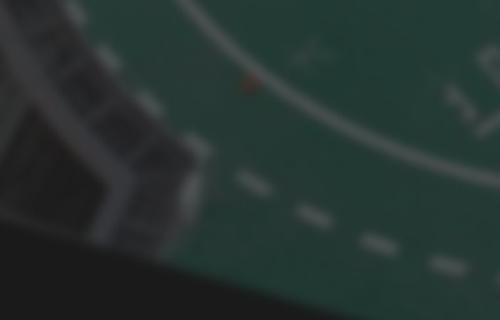Apron: (171, 1, 500, 184)
